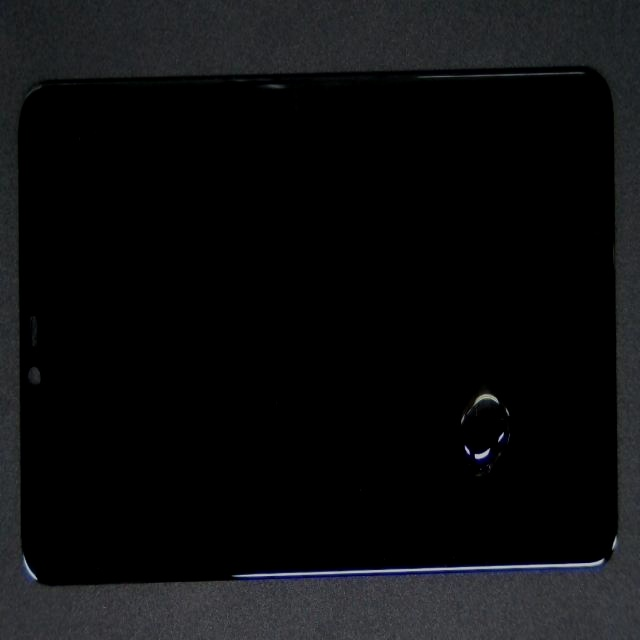oil: (241, 261, 640, 640)
